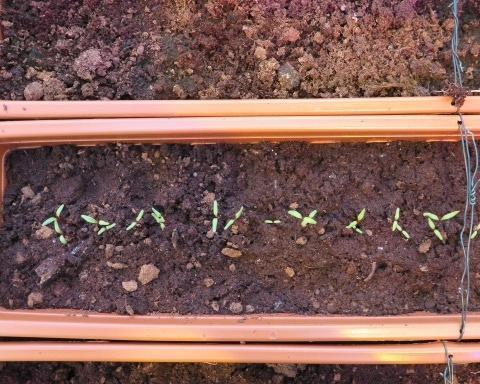crop: (221, 203, 244, 230), (124, 207, 144, 231), (208, 197, 219, 233), (260, 218, 283, 224)
